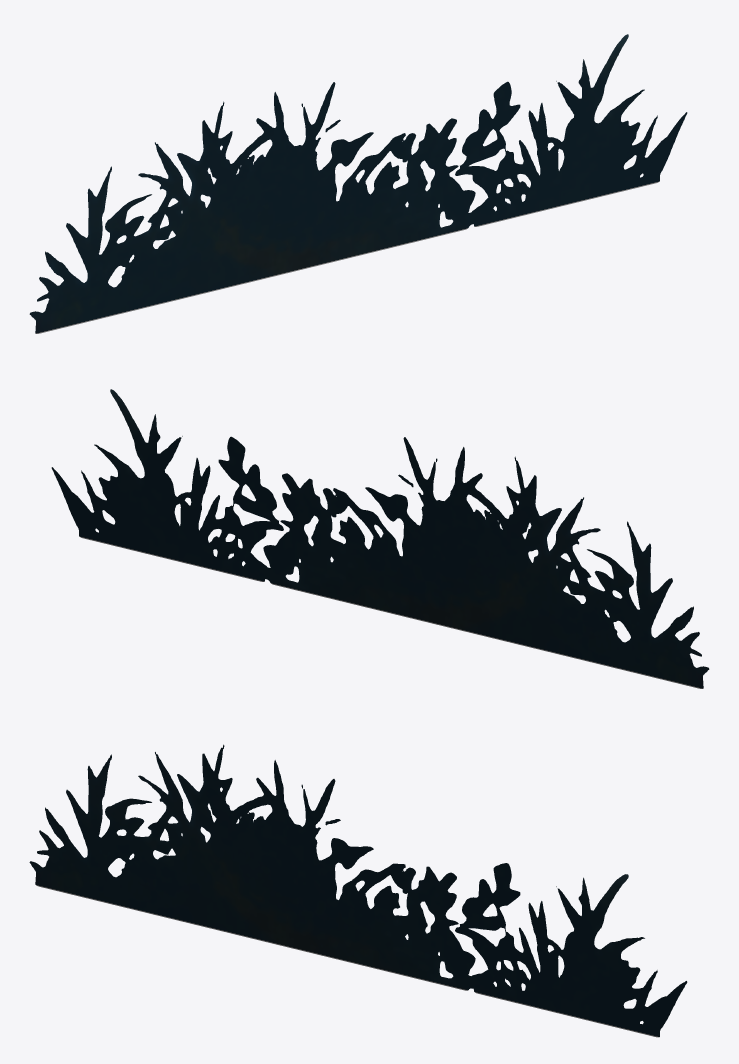
File: HuBian_NightZhiwu5_fbx.FBX
3 views of the same model, one above another, from view 1: azimuth 30°, elevation 25°; view 2: azimuth 150°, elevation 25°; view 3: azimuth 330°, elevation 25° (orthographic).
Visible parts, largest first — view 1: Object037; view 2: Object037; view 3: Object037.
Boxes of the visible parts, <box> form: Object037: <box>29,34,687,333</box>; Object037: <box>51,389,709,688</box>; Object037: <box>29,744,687,1037</box>.
Size of the model in its own units: 2.9 by 0.8211 by 2.69e-07.
1 material, 1 textured.
